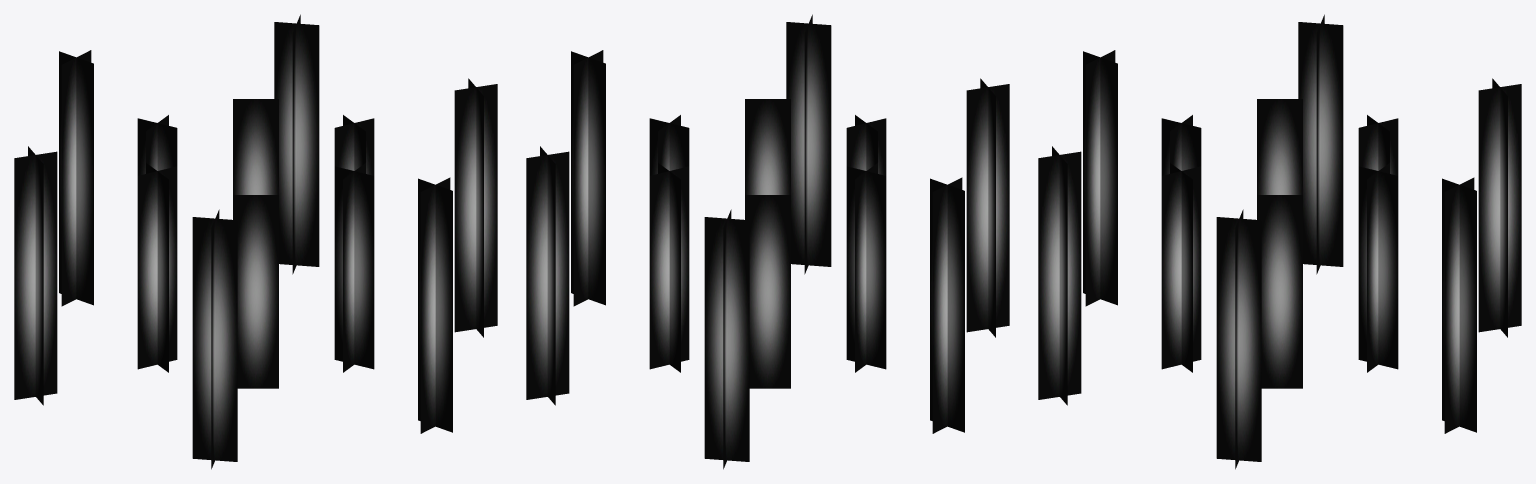
File: vfx_kurp_0079.dae
3 views of the same model, side by side, from view 1: azimuth 30°, elevation 25°; view 2: azimuth 150°, elevation 25°; view 3: azimuth 270°, elevation 25° (orthographic).
Visible parts, largest first — view 1: vfx_kurp_0079; view 2: vfx_kurp_0079; view 3: vfx_kurp_0079.
Part boxes in pixels (box(x1,y1,x2,y2)): vfx_kurp_0079: box(14, 14, 497, 469); vfx_kurp_0079: box(526, 14, 1009, 469); vfx_kurp_0079: box(1038, 14, 1521, 469).
Bounding box in the file's own units: 9.31 × 8.88 × 4.9.
Materials: 1 (1 with a texture image).
